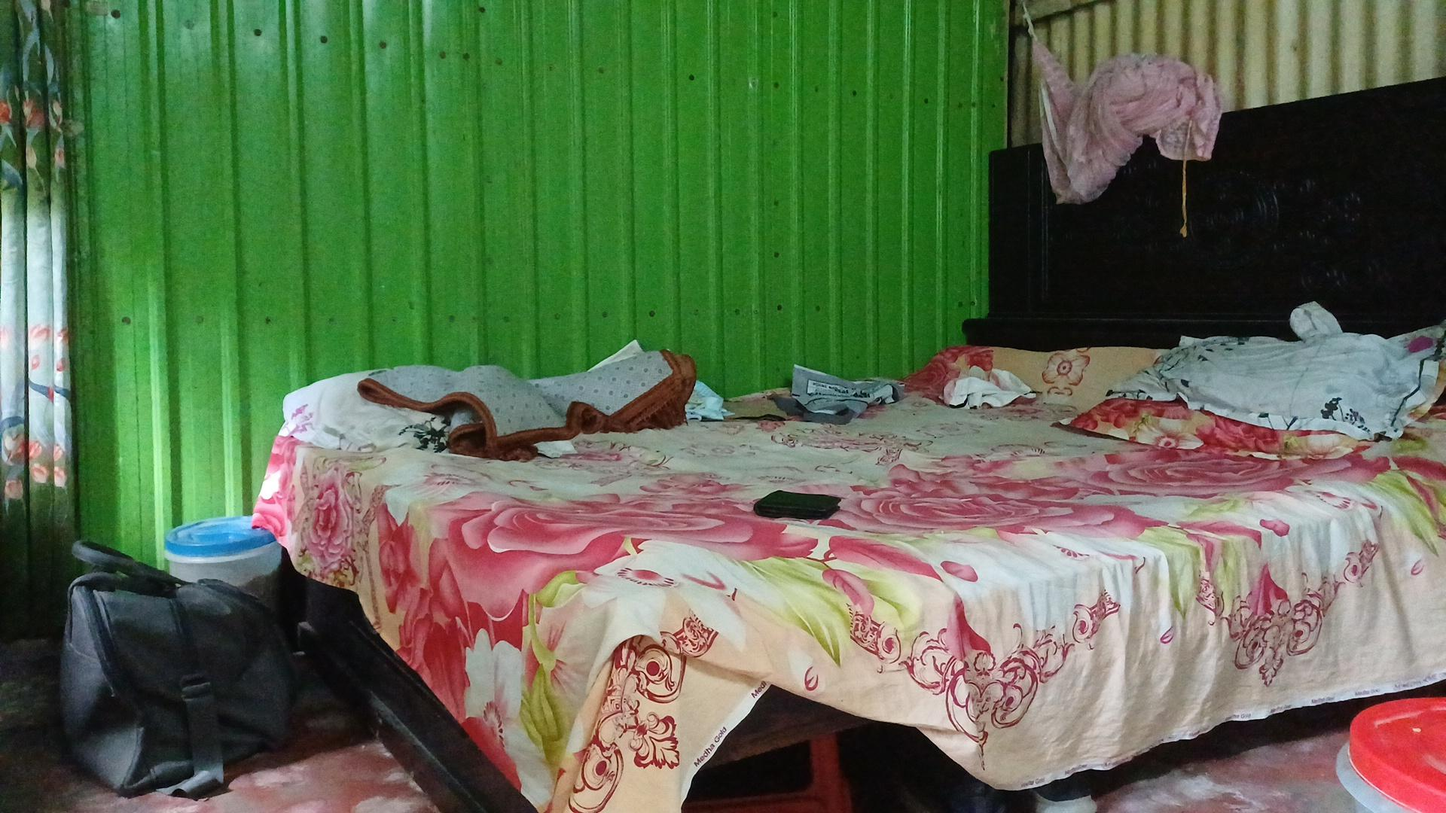Bag: (47, 533, 293, 794)
Moneybag: (744, 469, 839, 538)
Pillow: (1106, 315, 1423, 491)
